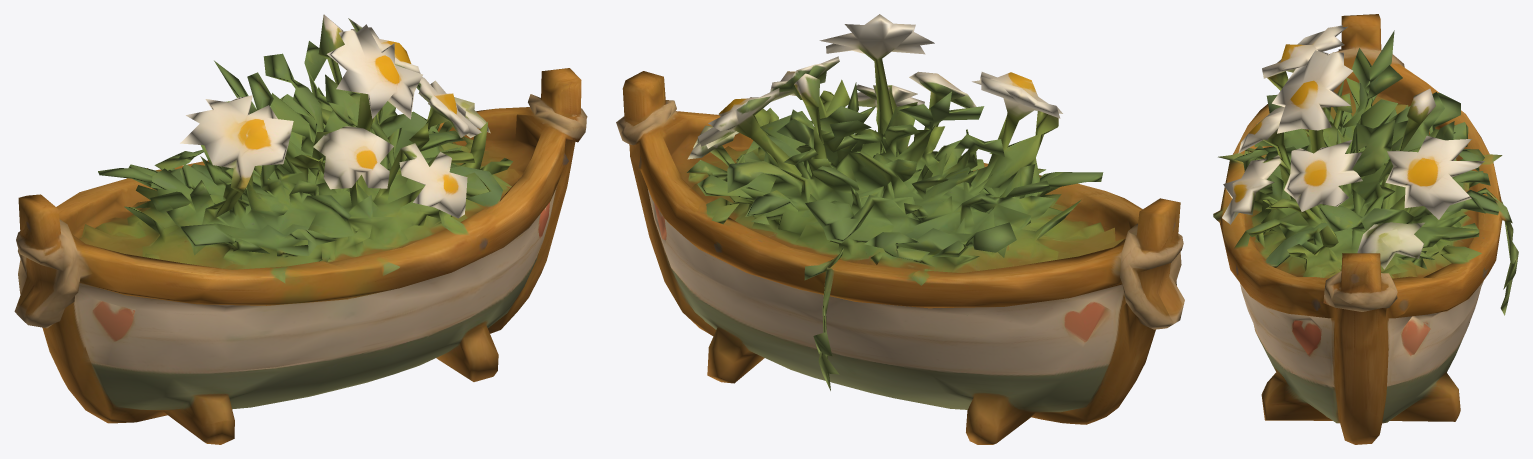
The model's file is decor-flowerBoat.glb.
3 renders of one model, left to right at view 1: azimuth 30°, elevation 25°; view 2: azimuth 150°, elevation 25°; view 3: azimuth 270°, elevation 25°, orthographic. The views are drawn at different scales.
Parts seen in each view (by area): view 1: tripo_node_ba42f825-ff53-433e-a18b-5b4f392852e5; view 2: tripo_node_ba42f825-ff53-433e-a18b-5b4f392852e5; view 3: tripo_node_ba42f825-ff53-433e-a18b-5b4f392852e5.
Part boxes in pixels (bbox=[...]): tripo_node_ba42f825-ff53-433e-a18b-5b4f392852e5: bbox=[14, 14, 587, 444]; tripo_node_ba42f825-ff53-433e-a18b-5b4f392852e5: bbox=[616, 14, 1184, 444]; tripo_node_ba42f825-ff53-433e-a18b-5b4f392852e5: bbox=[1213, 14, 1518, 444].
Size of the model in its own units: 1 by 0.6054 by 0.5098.
Materials: 1 (1 with a texture image).
